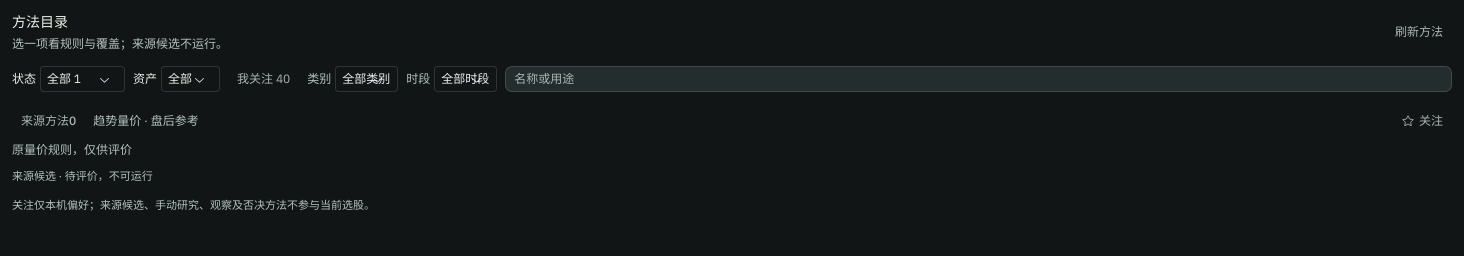
完整来源目录的选择与本机关注 › 本机关注上限40，畸形偏好不当成目录或执行权限
The width and height of the screenshot is (1464, 256).
Click the button with aria-label "关注来源方法0".
click(1422, 121)  # box x1=1392 y1=106 x2=1452 y2=136
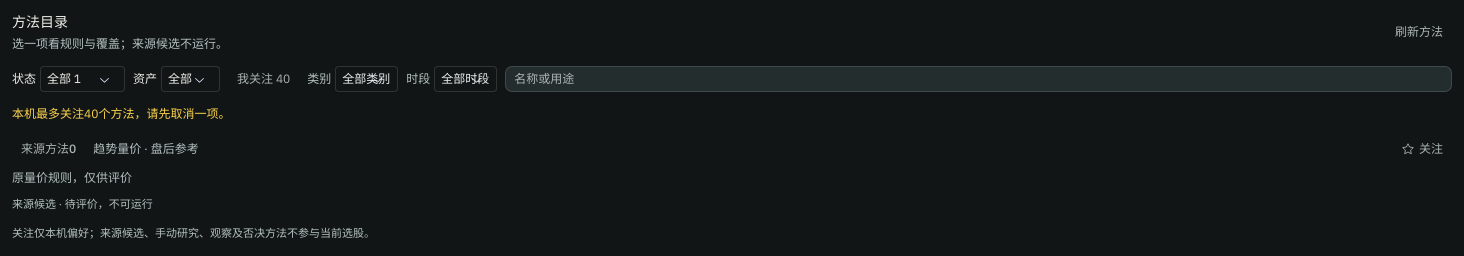
Now the text "本机最多关注40个方法，请先取消一项。" is shown, box x1=12 y1=106 x2=230 y2=121
Click the button "我关注 40".
click(264, 79)  # box x1=228 y1=64 x2=299 y2=94
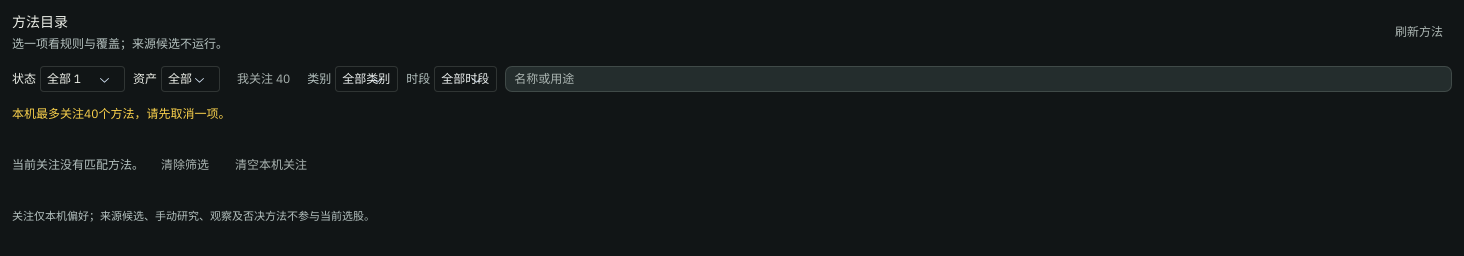
Click the button "清空本机关注".
click(271, 165)  # box x1=226 y1=150 x2=316 y2=180
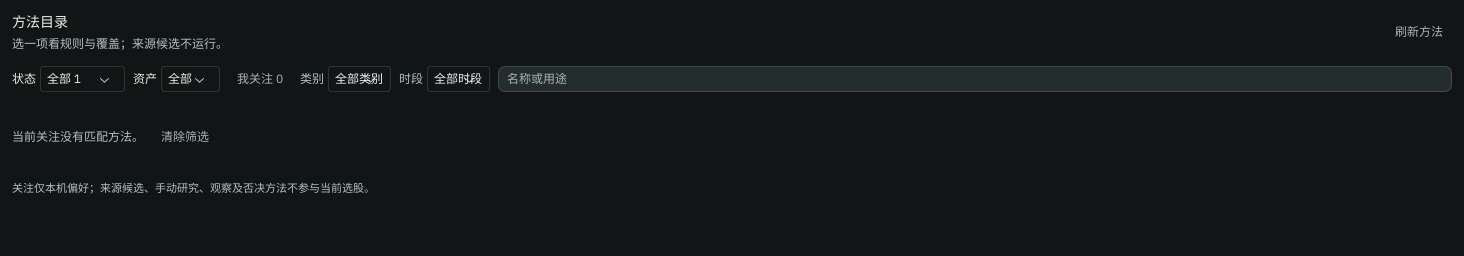
Now the button "我关注 0" is shown, box x1=228 y1=64 x2=292 y2=94
Now the text "本机最多关注40个方法，请先取消一项。" is gone
